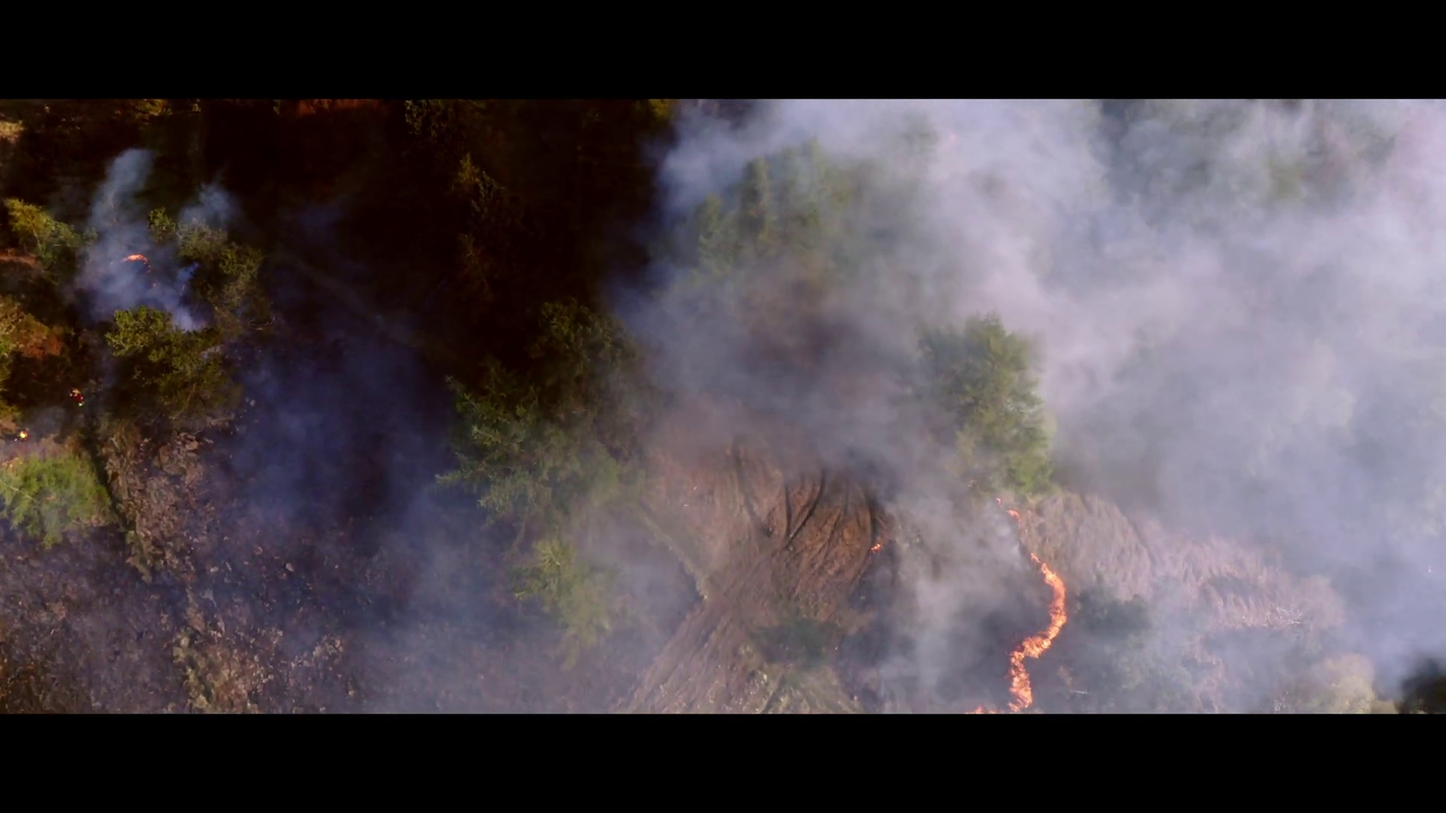forest_fire: (1008, 553, 1066, 711), (1006, 508, 1021, 540), (969, 706, 995, 712), (995, 498, 1002, 504)
